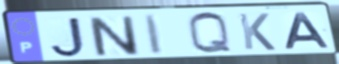A: (283, 11, 334, 51)
I: (142, 13, 165, 56)
J: (48, 16, 88, 59)
K: (235, 12, 278, 52)
N: (85, 15, 143, 58)
Q: (185, 11, 235, 56)
